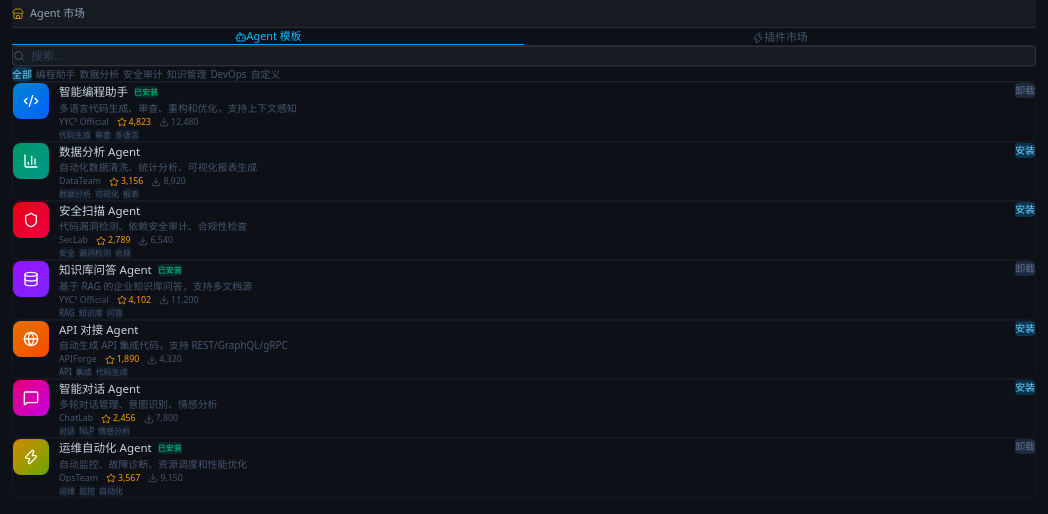
AgentMarket › 搜索框按名称/标签过滤模板
This screenshot has width=1048, height=514.
Type "RAG" into the field with placeholder "搜索..." at (533, 56), box [31,47,1035,65]
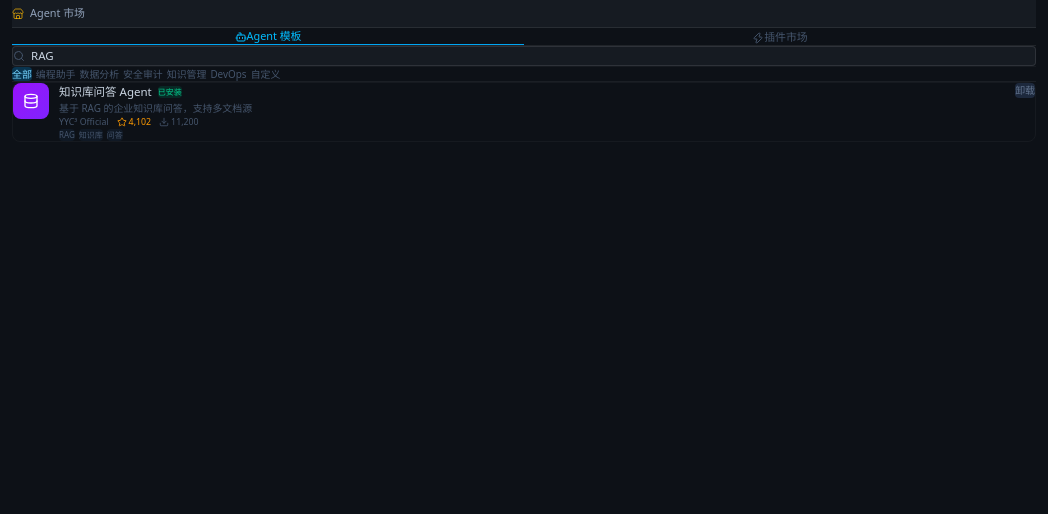
Expected: the text "知识库问答 Agent" is shown, [59,84,152,101]
Now the text "智能编程助手" is gone
